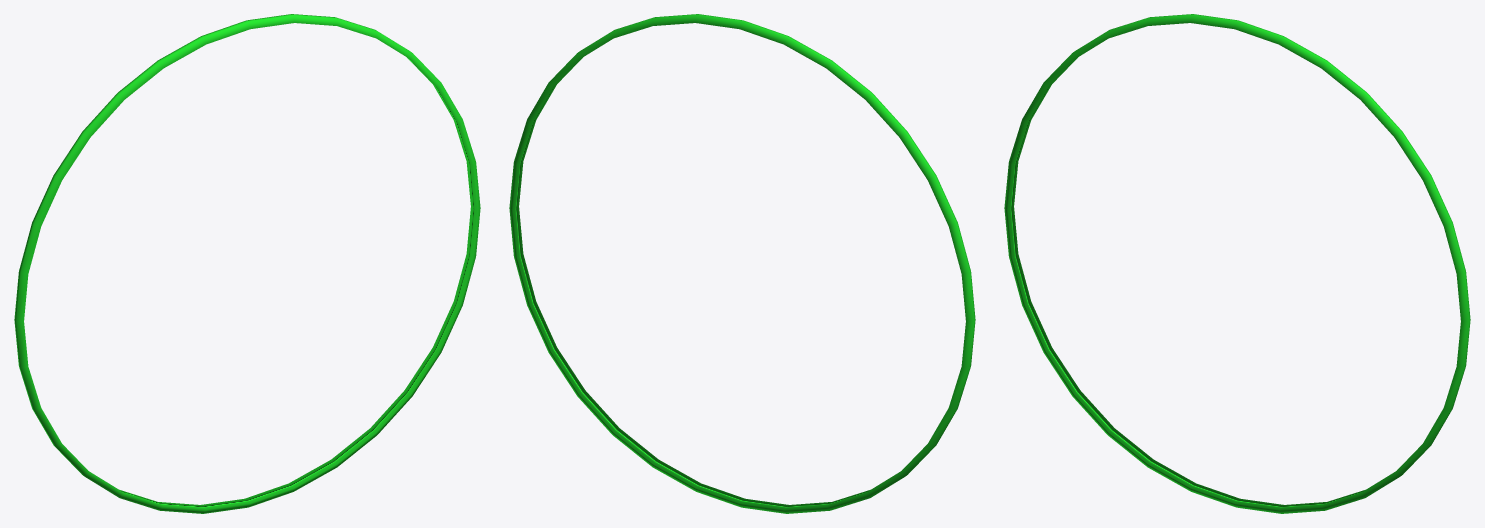
3 views of the same model, side by side, from view 1: azimuth 30°, elevation 25°; view 2: azimuth 150°, elevation 25°; view 3: azimuth 330°, elevation 25° (orthographic).
Visible parts, largest first — view 1: Окружность.001; view 2: Окружность.001; view 3: Окружность.001.
Part boxes in pixels (box(x1,y1,x2,y2)): Окружность.001: box(14, 14, 480, 513); Окружность.001: box(509, 14, 975, 513); Окружность.001: box(1004, 14, 1470, 513).
Size of the model in its own units: 3.85 by 3.85 by 0.0851.
